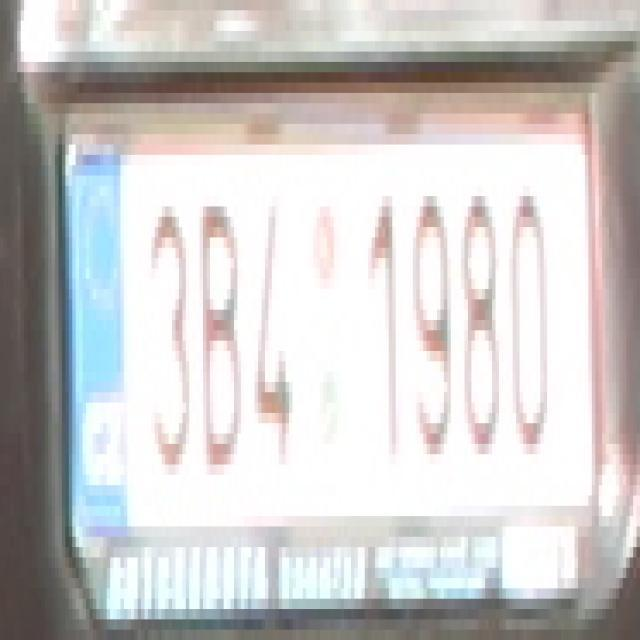0: (509, 175, 547, 434)
1: (364, 186, 396, 464)
3: (148, 186, 189, 464)
4: (258, 206, 293, 464)
8: (458, 196, 500, 454)
9: (406, 196, 454, 454)
B: (193, 186, 244, 475)
